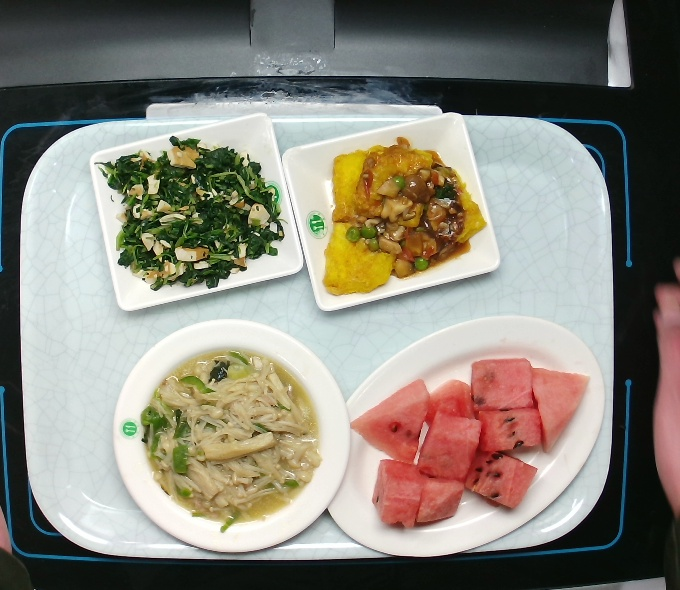wcq-CuiPiDouFu: (319, 142, 488, 298)
wcq-JinZhenGu: (143, 347, 325, 524)
wcq-MaLanTouChaoDouGan: (99, 136, 286, 289)
wcq-XiGua: (348, 357, 591, 529)
